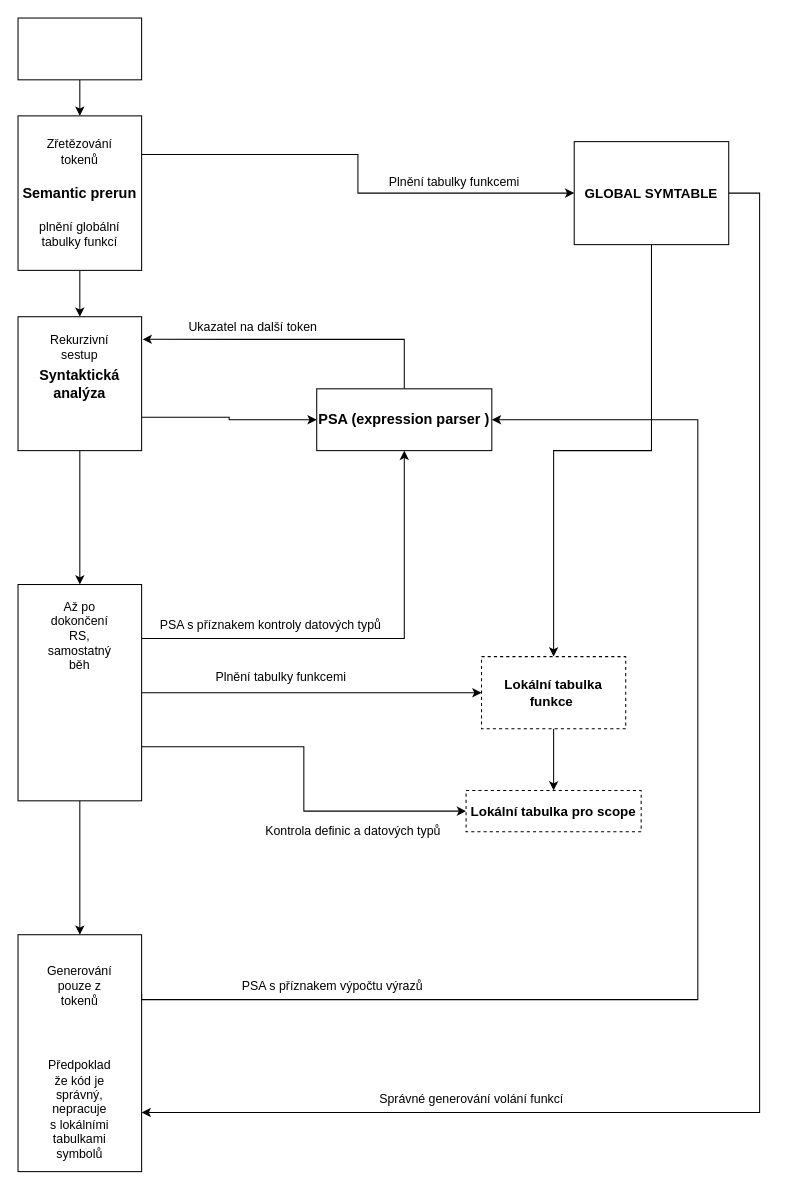
This 786x1190 diagram has some shape labels left out. The box of each missing label's shape, as (x1, y1, x2, y2) in pixels:
Generování kódu: (17, 934, 142, 1172)
Lexikální analýza: (17, 17, 142, 80)
Sémantická analýza: (17, 583, 142, 801)
